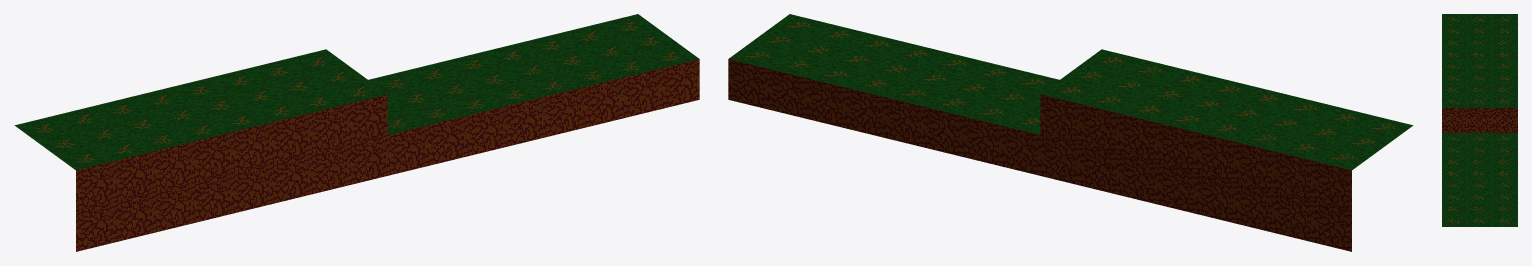
Rendered from EndRoom5Fragil8Piso-f4f187934b0a.glb.
The picture shows the model from 3 angles, left to right: view 1: azimuth 30°, elevation 25°; view 2: azimuth 150°, elevation 25°; view 3: azimuth 270°, elevation 25°; orthographic projection. The views are drawn at different scales.
Visible parts, largest first — view 1: Setor_4; view 2: Setor_4; view 3: Setor_4.
Boxes of the visible parts, x1,y1,x2,y2 form: Setor_4: (14, 14, 699, 251); Setor_4: (728, 14, 1413, 251); Setor_4: (1442, 14, 1517, 226).
Size of the model in its own units: 16.64 by 2.08 by 2.84.
1 material, 1 textured.
